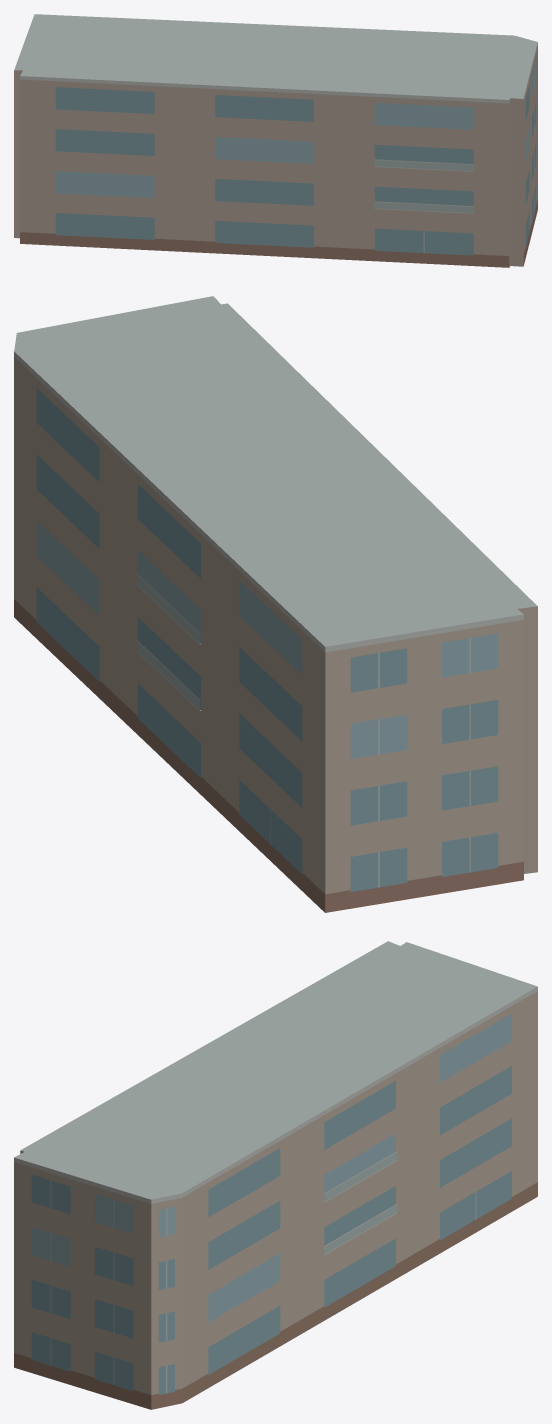
The model's file is survey-upis-32656887.glb.
The picture shows the model from 3 angles, top to bottom: view 1: azimuth 30°, elevation 25°; view 2: azimuth 150°, elevation 25°; view 3: azimuth 270°, elevation 25°; orthographic projection. The views are drawn at different scales.
Visible parts, largest first — view 1: survey-upis-32656887.tmp; view 2: survey-upis-32656887.tmp; view 3: survey-upis-32656887.tmp.
Boxes of the visible parts, x1=… form: survey-upis-32656887.tmp: x1=14, y1=14, x2=537, y2=267; survey-upis-32656887.tmp: x1=14, y1=296, x2=537, y2=912; survey-upis-32656887.tmp: x1=14, y1=941, x2=537, y2=1409.
Bounding box in the file's own units: 30.9 × 11.7 × 26.45.
